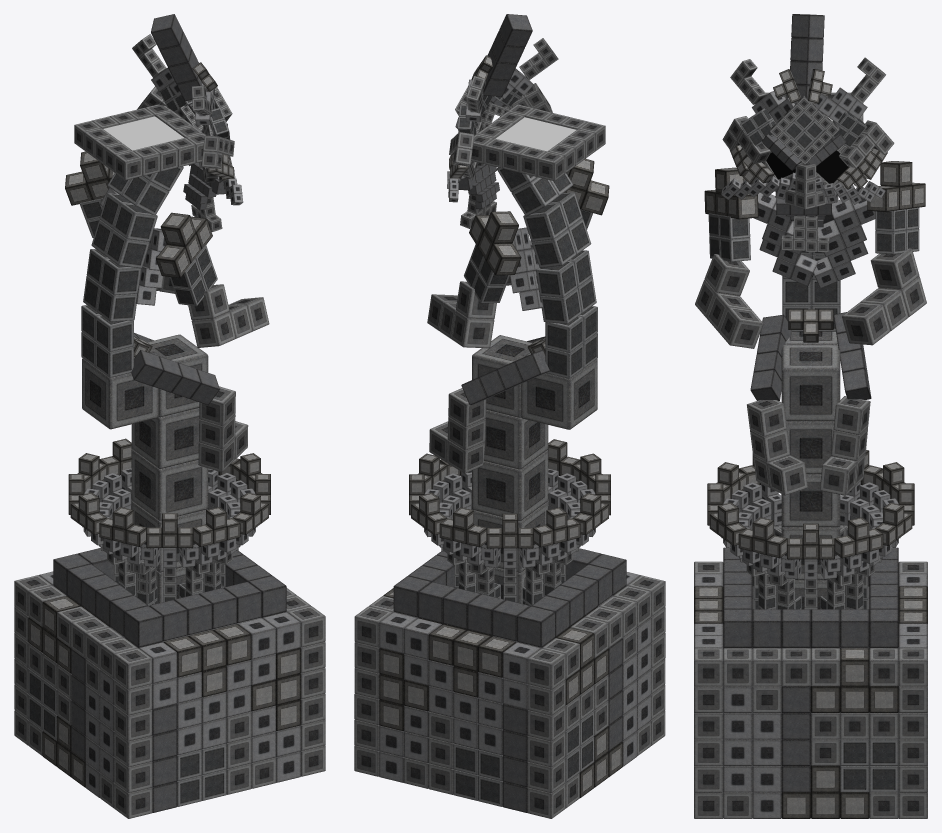
File: Colossus.fbx
3 views of the same model, side by side, from view 1: azimuth 30°, elevation 25°; view 2: azimuth 150°, elevation 25°; view 3: azimuth 270°, elevation 25° (orthographic). The views are drawn at different scales.
Parts seen in each view (by area): view 1: colosse_base, colosse_corps, colosse_roue, colosse_tete; view 2: colosse_base, colosse_corps, colosse_roue, colosse_tete; view 3: colosse_base, colosse_corps, colosse_tete, colosse_roue.
Boxes of the visible parts, left/top/right/bottom form: colosse_base: left=14, top=548, right=325, bottom=818; colosse_corps: left=65, top=151, right=269, bottom=603; colosse_roue: left=68, top=438, right=270, bottom=605; colosse_tete: left=74, top=14, right=243, bottom=231; colosse_base: left=354, top=548, right=665, bottom=818; colosse_corps: left=427, top=158, right=609, bottom=603; colosse_roue: left=409, top=439, right=610, bottom=605; colosse_tete: left=447, top=14, right=605, bottom=228; colosse_base: left=694, top=547, right=927, bottom=818; colosse_corps: left=695, top=161, right=926, bottom=609; colosse_tete: left=721, top=14, right=894, bottom=252; colosse_roue: left=707, top=450, right=914, bottom=609.
Bounding box in the file's own units: 401 × 1428 × 400.
